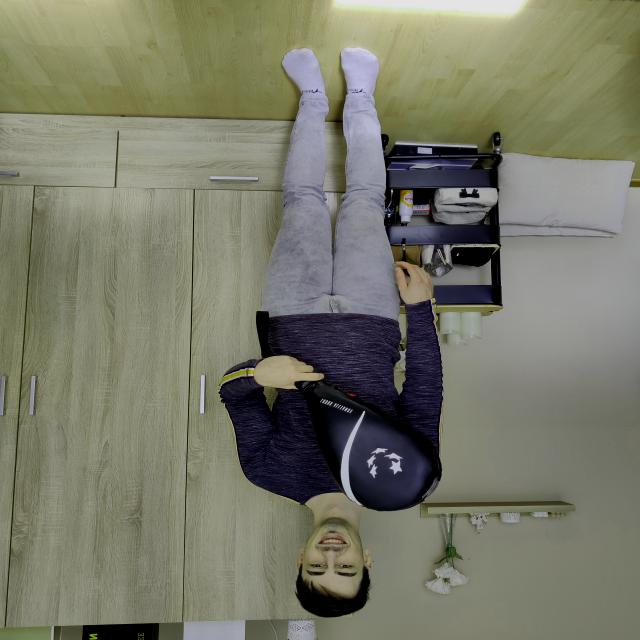paddle: (296, 382, 444, 512)
